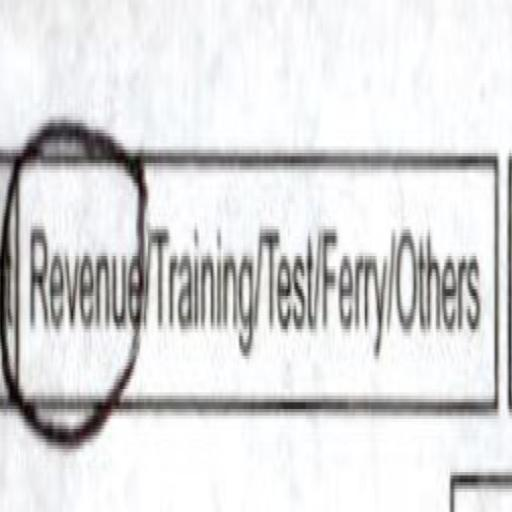check: (22, 111, 144, 466)
